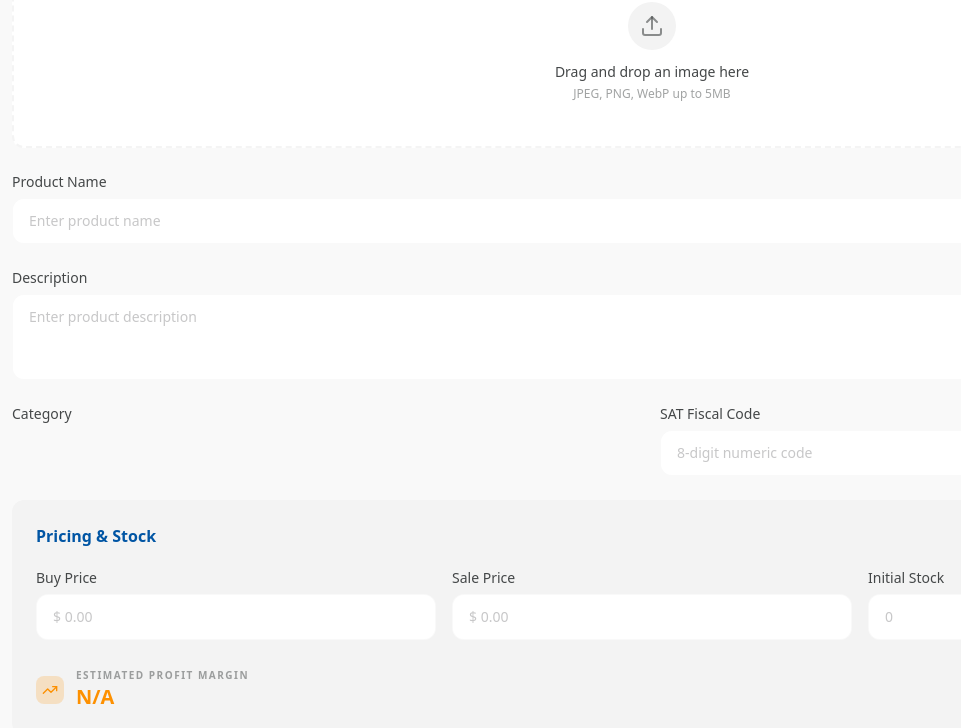
Scenario: ProductForm › should calculate profit margin correctly.
In the number field labelled "Buy Price": (236, 617) [36,594,436,640], type "50"
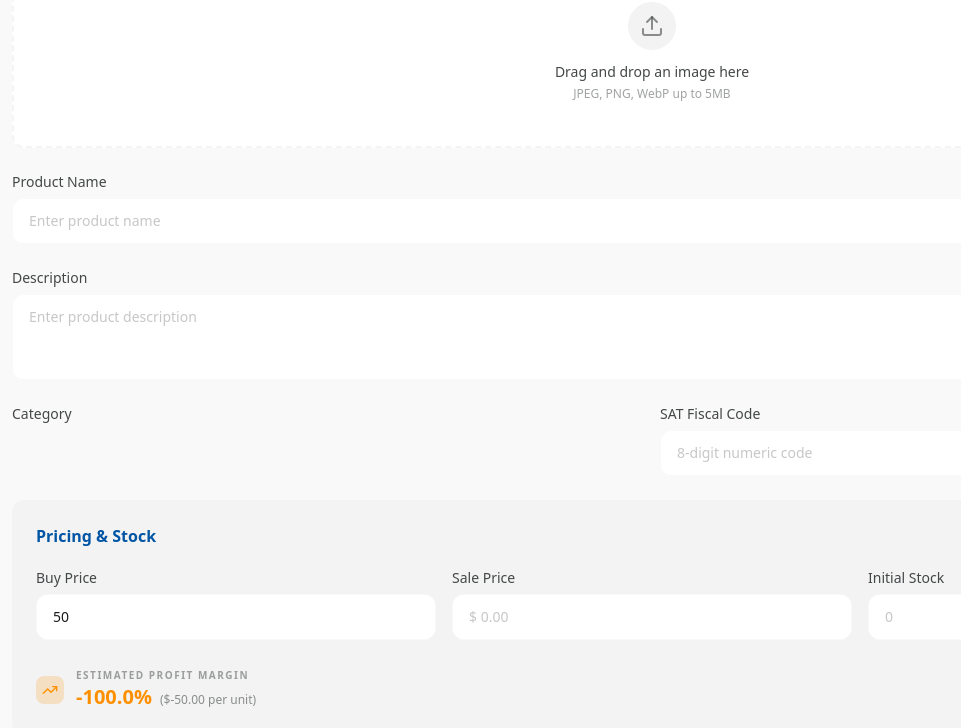
In the number field labelled "Sale Price": (652, 617) [452,594,852,640], type "75"
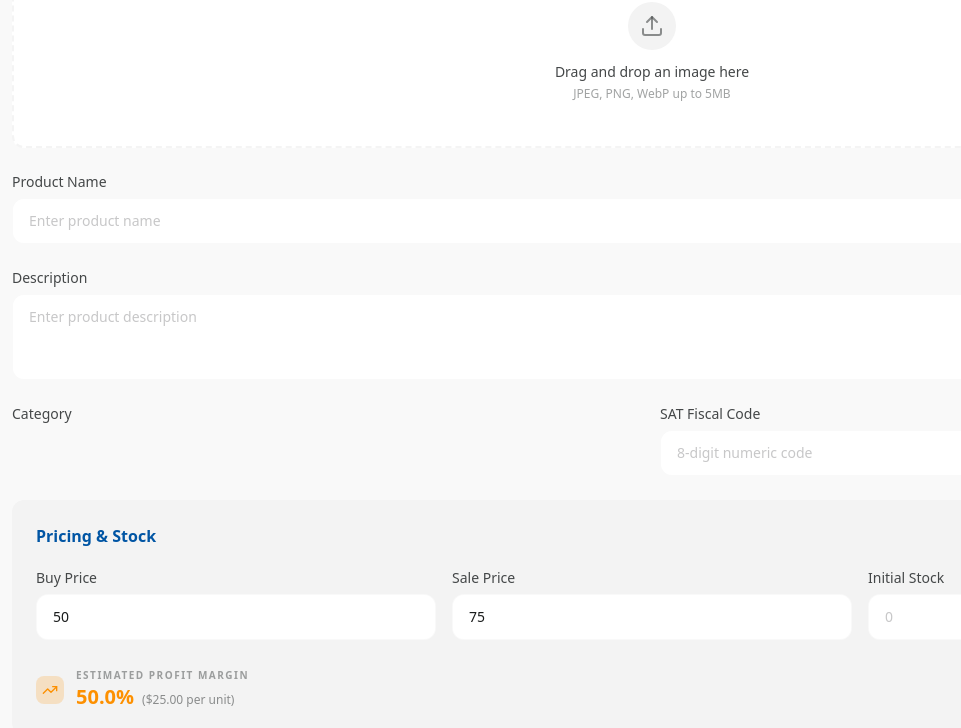
Check: the text "50.0%" is shown, box [76,683,134,711]
Check: the text "($25.00 per unit)" is shown, box [142,692,234,708]
